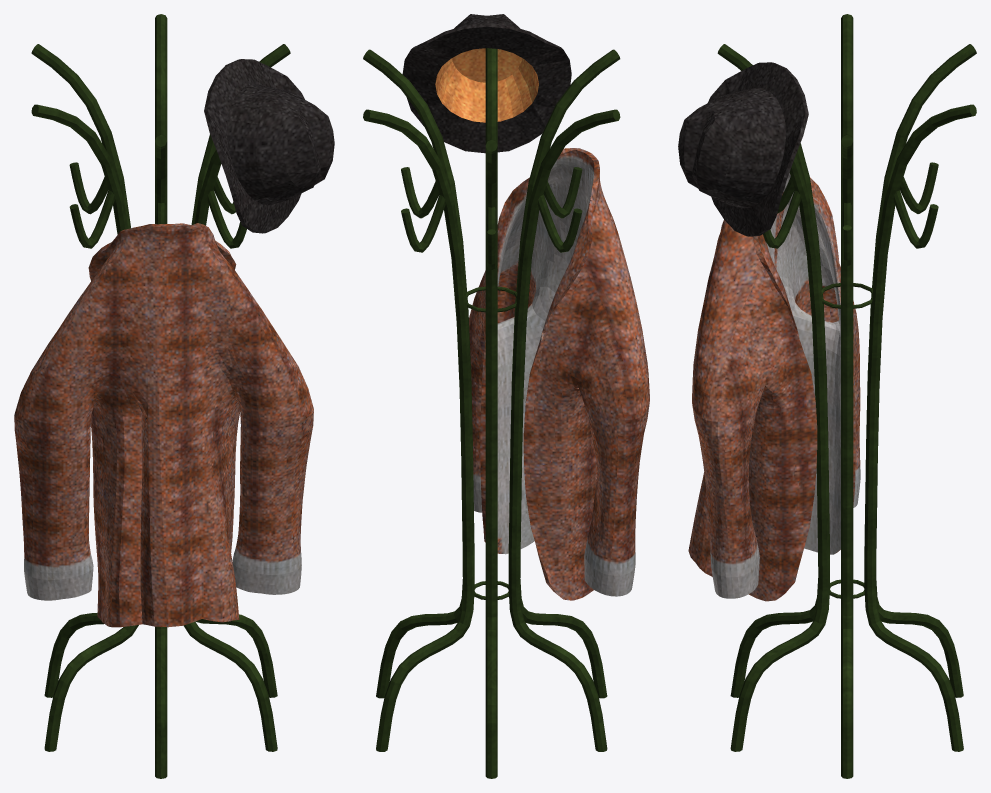
Rendered from Weshalka.fbx.
3 views of the same model, side by side, from view 1: azimuth 30°, elevation 25°; view 2: azimuth 150°, elevation 25°; view 3: azimuth 270°, elevation 25° (orthographic).
Parts seen in each view (by area): view 1: Kurtka, Weshalka, Shlyapa; view 2: Kurtka, Weshalka, Shlyapa; view 3: Kurtka, Weshalka, Shlyapa.
Part boxes in pixels (x1=…): Kurtka: x1=14, y1=223, x2=313, y2=627; Weshalka: x1=31, y1=14, x2=290, y2=778; Shlyapa: x1=204, y1=59, x2=334, y2=233; Kurtka: x1=469, y1=148, x2=649, y2=600; Weshalka: x1=363, y1=48, x2=620, y2=778; Shlyapa: x1=402, y1=14, x2=571, y2=153; Kurtka: x1=688, y1=173, x2=860, y2=601; Weshalka: x1=717, y1=14, x2=976, y2=778; Shlyapa: x1=678, y1=62, x2=808, y2=236.
Size of the model in its own units: 415 by 966 by 389.
1 material, 1 textured.
